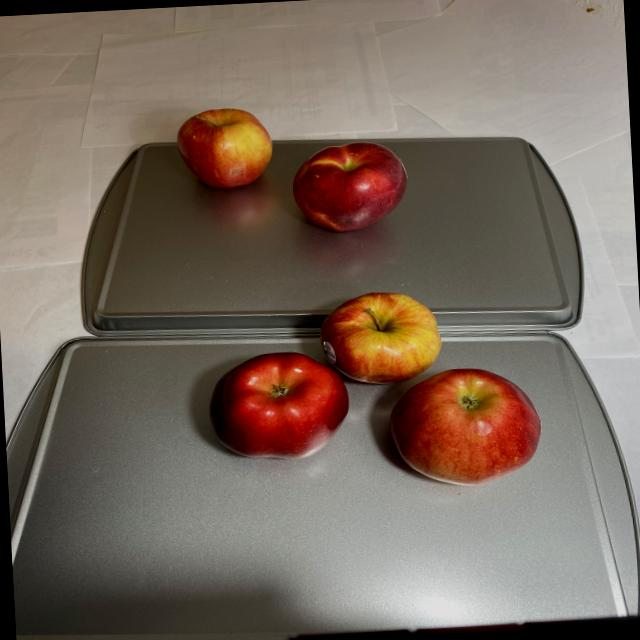apple: (199, 282, 548, 498), (167, 100, 414, 254)
